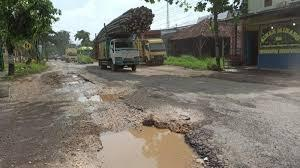Pothole: (43, 62, 156, 107)
